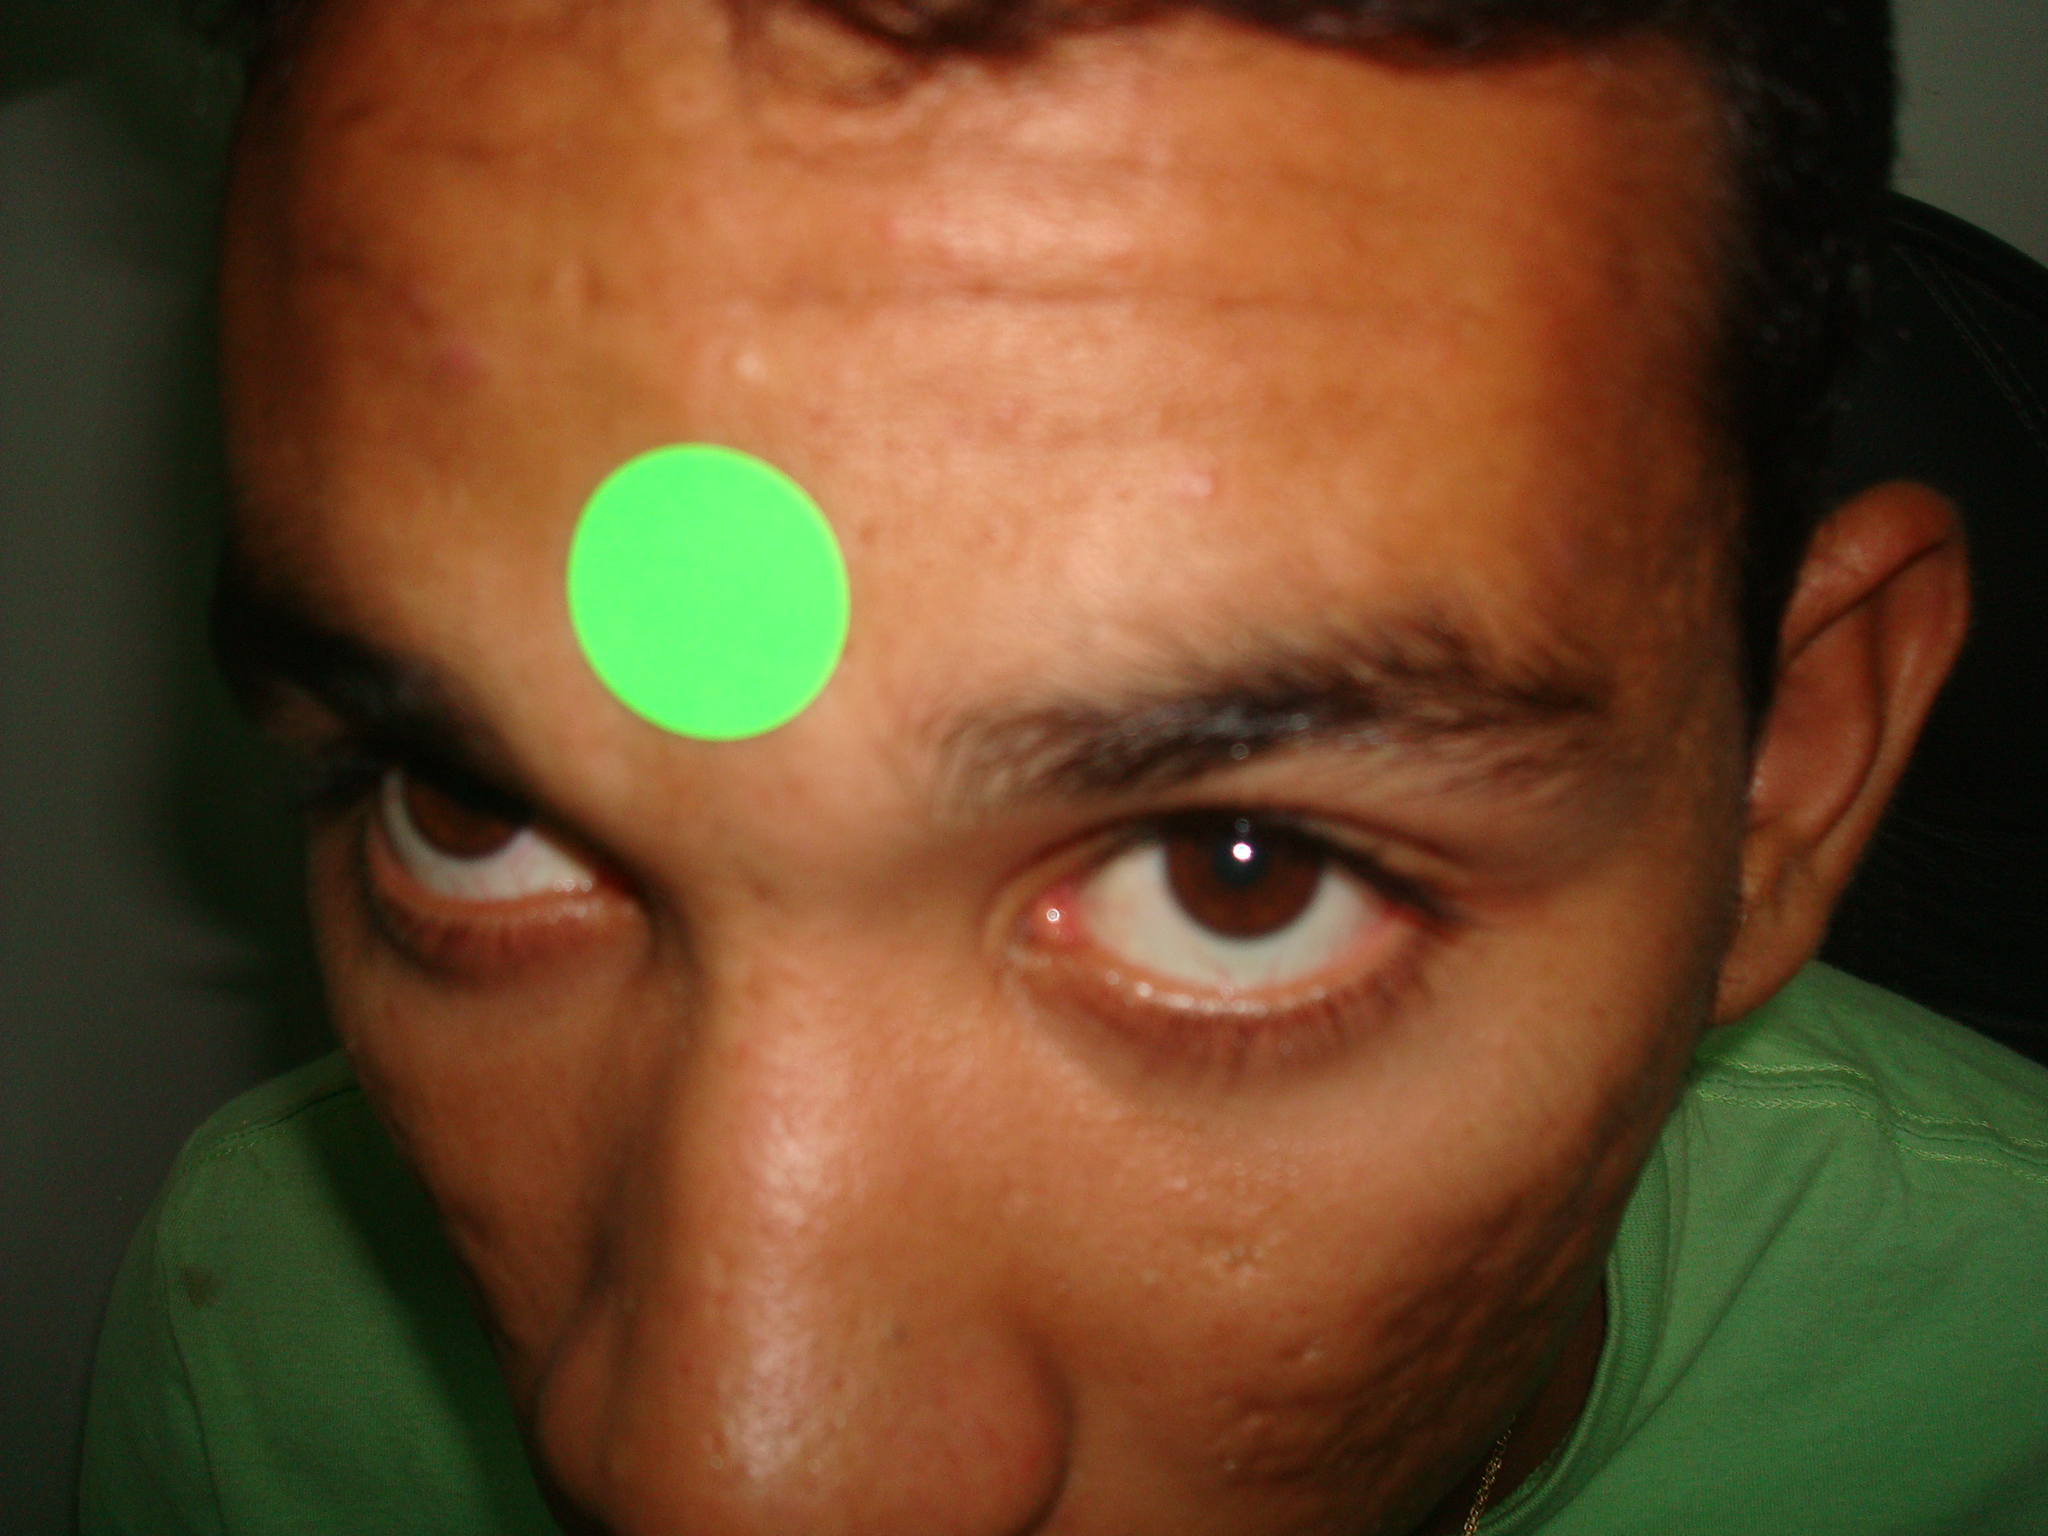flash: (1543, 708, 1579, 741), (1224, 836, 1261, 865)
limbo: (1158, 786, 1326, 937)
